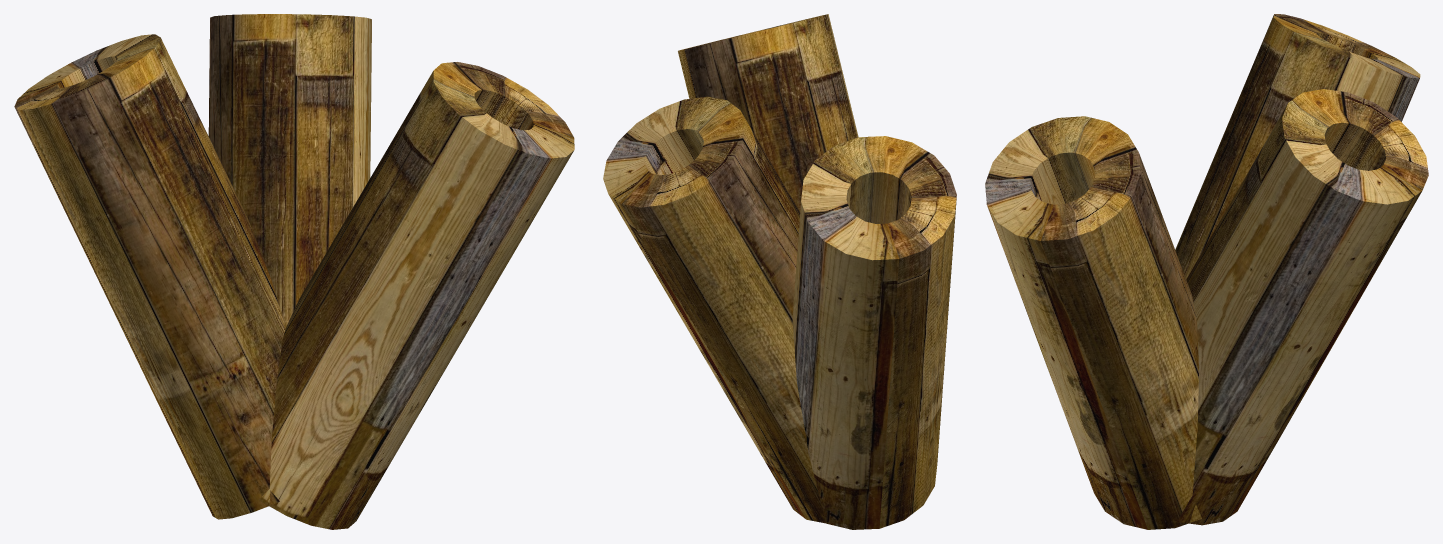
The model's file is walls.obj.
3 renders of one model, left to right at view 1: azimuth 30°, elevation 25°; view 2: azimuth 150°, elevation 25°; view 3: azimuth 270°, elevation 25°, orthographic. The views are drawn at different scales.
Parts seen in each view (by area): view 1: Tube002, Tube003, Tube001; view 2: Tube003, Tube001, Tube002; view 3: Tube002, Tube001, Tube003.
Boxes of the visible parts, x1,y1,x2,y2 form: Tube002: (259,62,574,529); Tube003: (14,34,285,519); Tube001: (208,14,371,327); Tube003: (792,136,956,529); Tube001: (603,96,825,523); Tube002: (678,14,858,211); Tube002: (985,116,1201,529); Tube001: (1177,89,1428,525); Tube003: (1175,14,1420,279).
Bounding box in the file's own units: 20.87 × 21.66 × 19.98.
